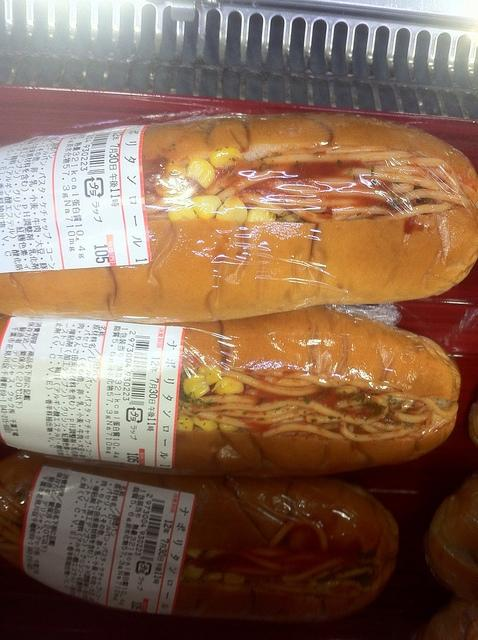corn: (154, 174, 195, 200), (186, 157, 216, 189), (216, 196, 248, 222), (193, 195, 222, 219), (184, 374, 211, 399), (211, 147, 243, 168), (194, 364, 222, 386), (210, 376, 244, 394), (168, 203, 198, 220), (245, 207, 276, 222), (192, 416, 218, 432), (182, 564, 205, 580), (176, 415, 193, 431), (224, 573, 245, 585), (218, 422, 240, 432), (186, 549, 202, 559), (203, 574, 223, 582), (203, 550, 222, 558)
